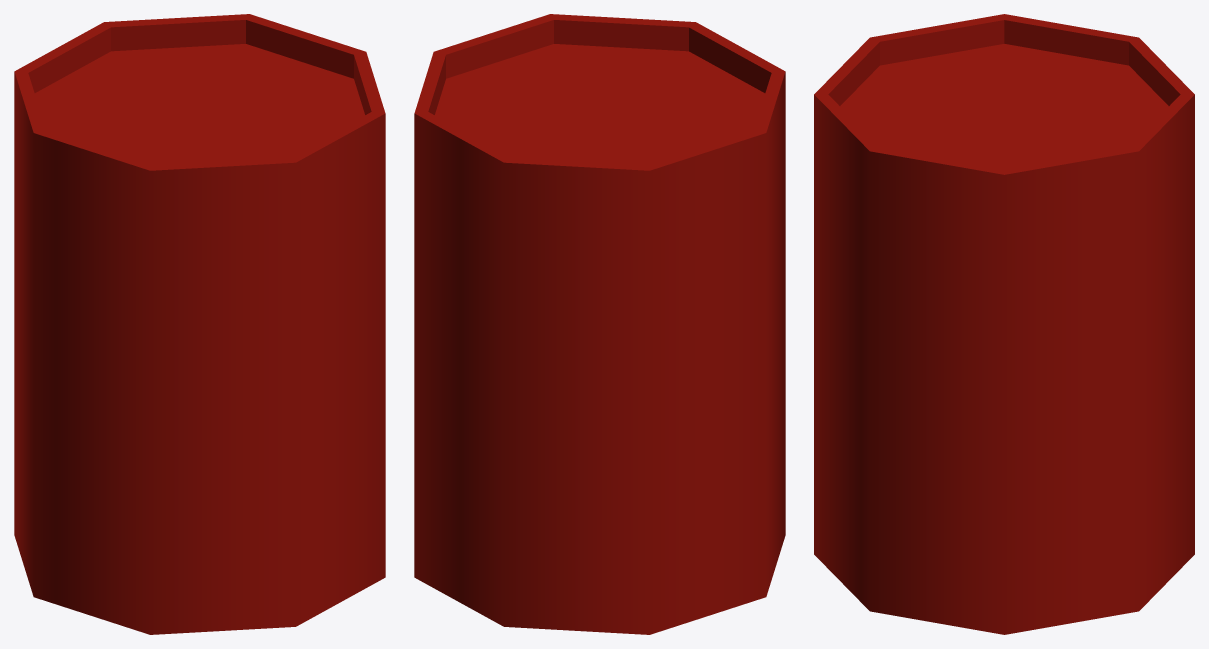
The model's file is explosive barrel.FBX.
3 views of the same model, side by side, from view 1: azimuth 30°, elevation 25°; view 2: azimuth 150°, elevation 25°; view 3: azimuth 270°, elevation 25° (orthographic).
Parts seen in each view (by area): view 1: Cylinder001; view 2: Cylinder001; view 3: Cylinder001.
Boxes of the visible parts, left/top/right/bottom form: Cylinder001: left=14, top=14, right=385, bottom=634; Cylinder001: left=414, top=14, right=785, bottom=634; Cylinder001: left=814, top=14, right=1194, bottom=634.
Bounding box in the file's own units: 5.91 × 7.87 × 5.91.
Materials: 1 (1 with a texture image).
